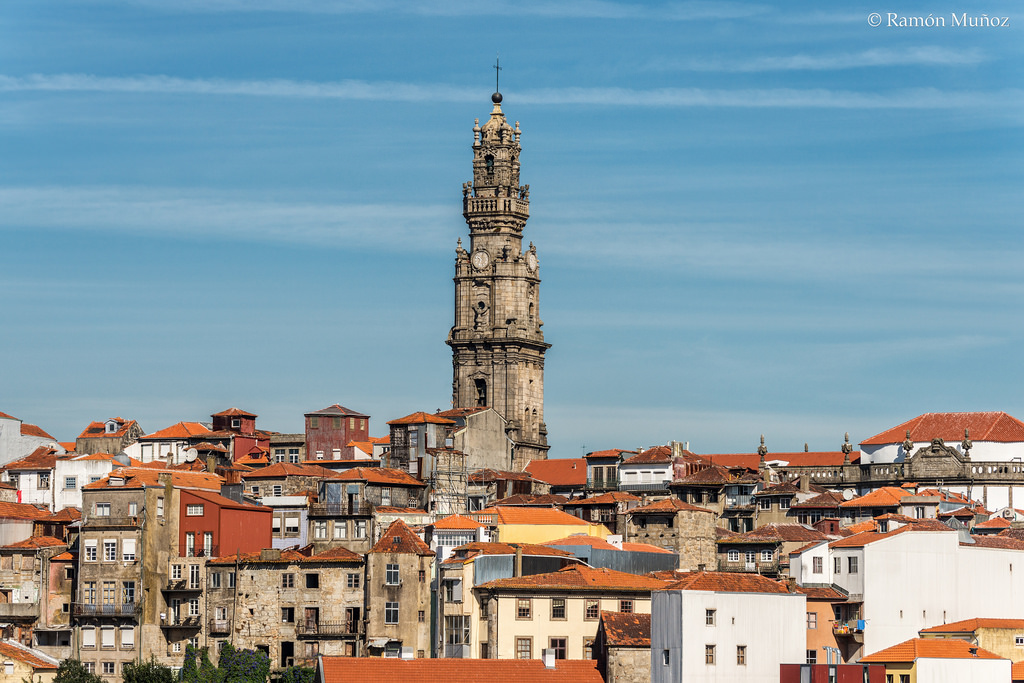clerigos: (446, 56, 551, 459)
